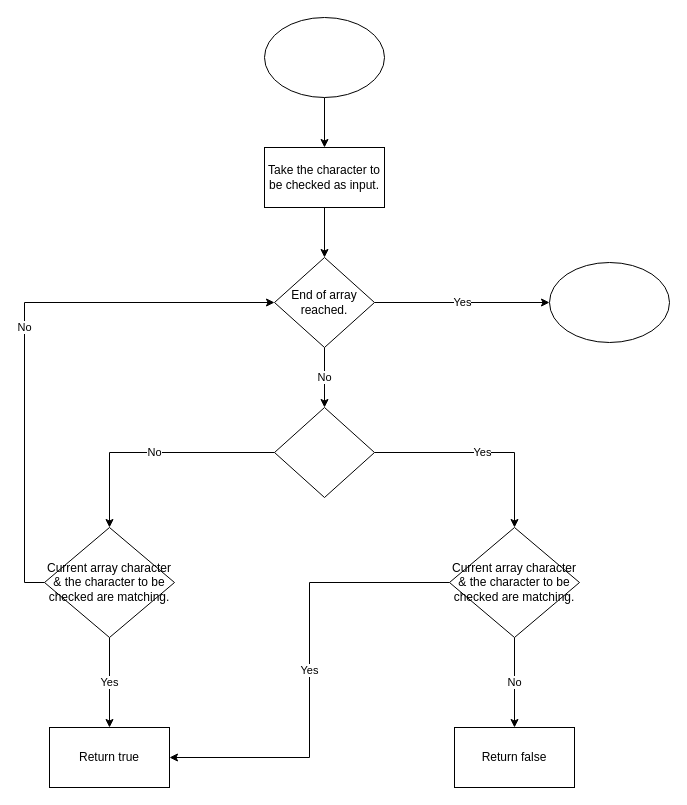
Some shapes in this 687 by 805 pixel diagram are drawn without their labels. The shapes that lost their labels are listed below. From the top down, each one's centre as x and y in pixels, then its label:
At (x=324, y=57): "Start".
At (x=609, y=302): "End".
At (x=324, y=452): "Last element in array.".
